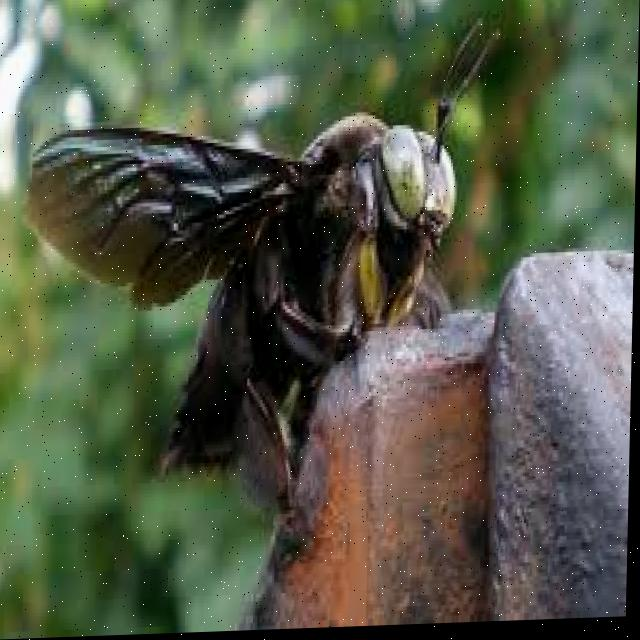Xylocopa: (34, 79, 468, 535)
